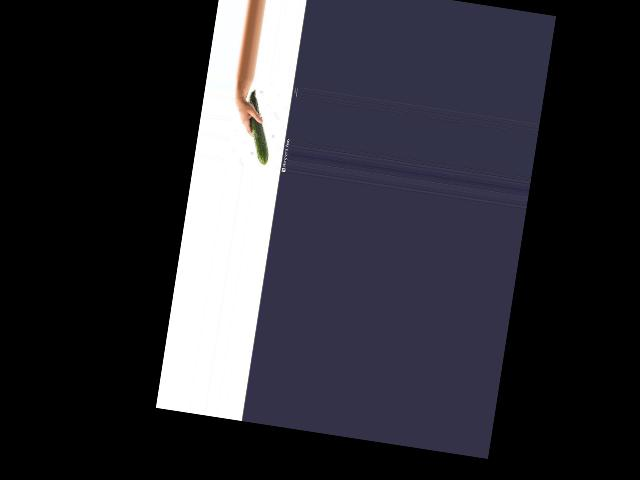cucumber: (239, 88, 278, 165)
